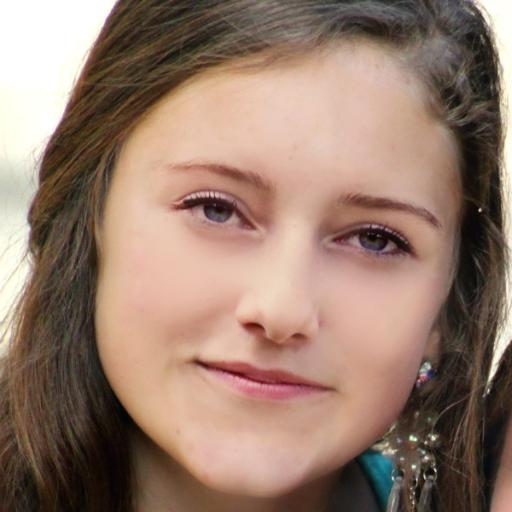left_eye: (331, 226, 414, 261)
left_lip_corner: (316, 379, 343, 402)
right_eye: (172, 197, 258, 233)
right_lip_corner: (179, 350, 217, 378)
